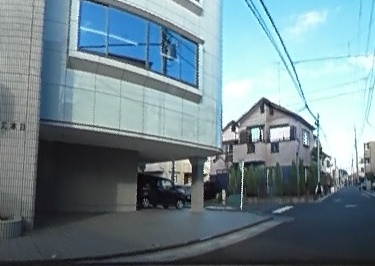person: (314, 180, 322, 197)
